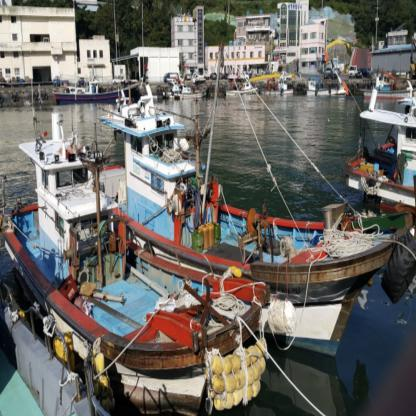fish-b: (92, 70, 404, 375), (1, 93, 287, 416)
